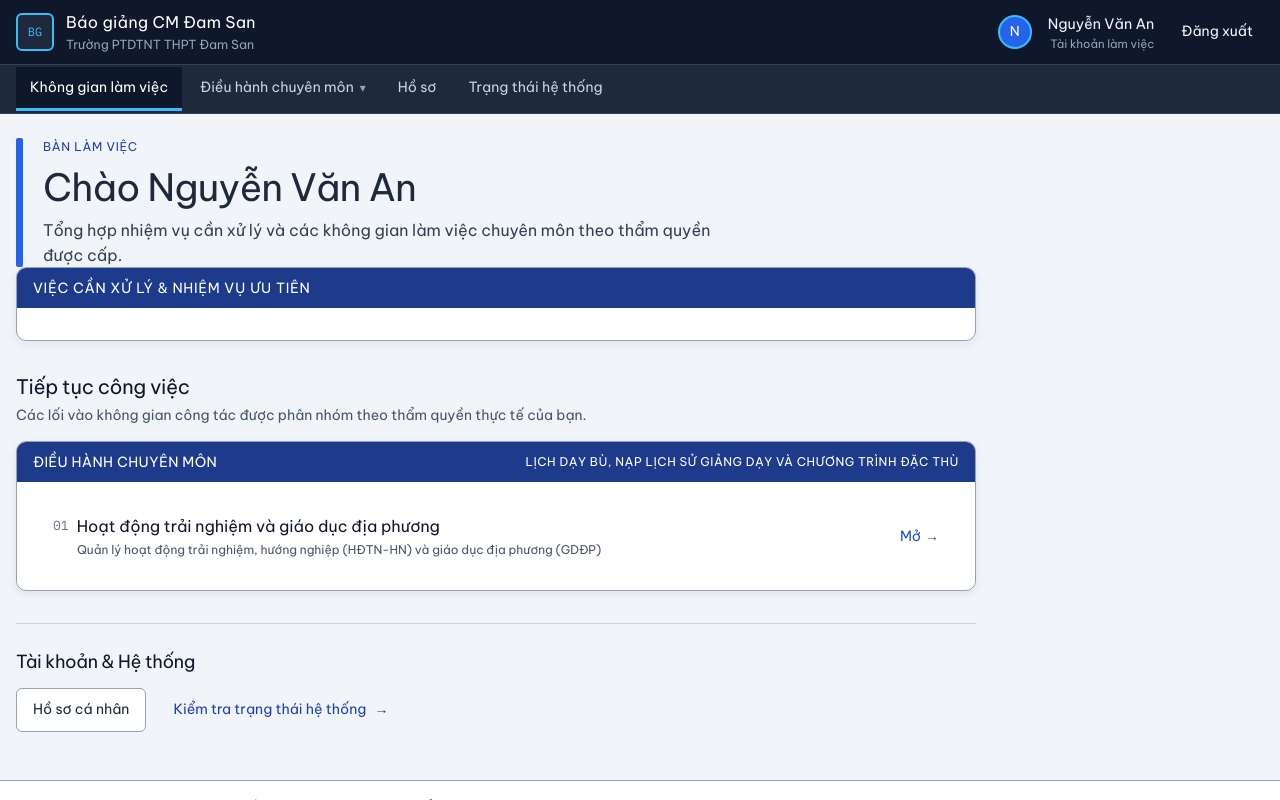
Test: P5-052: Task-Oriented Workspace & Information Architecture › Persona Fixtures (Real Grants — No Role Derivation) › 7. GDĐP / HĐTN Coordinator: sees Teaching Operations family and special programme workspace
expect the heading "Chào Nguyễn Văn An" is shown: met, box [43,163,416,211]
Step 1. Click the button "Điều hành chuyên môn ▾" → (283, 89), box [186,67,380,111]
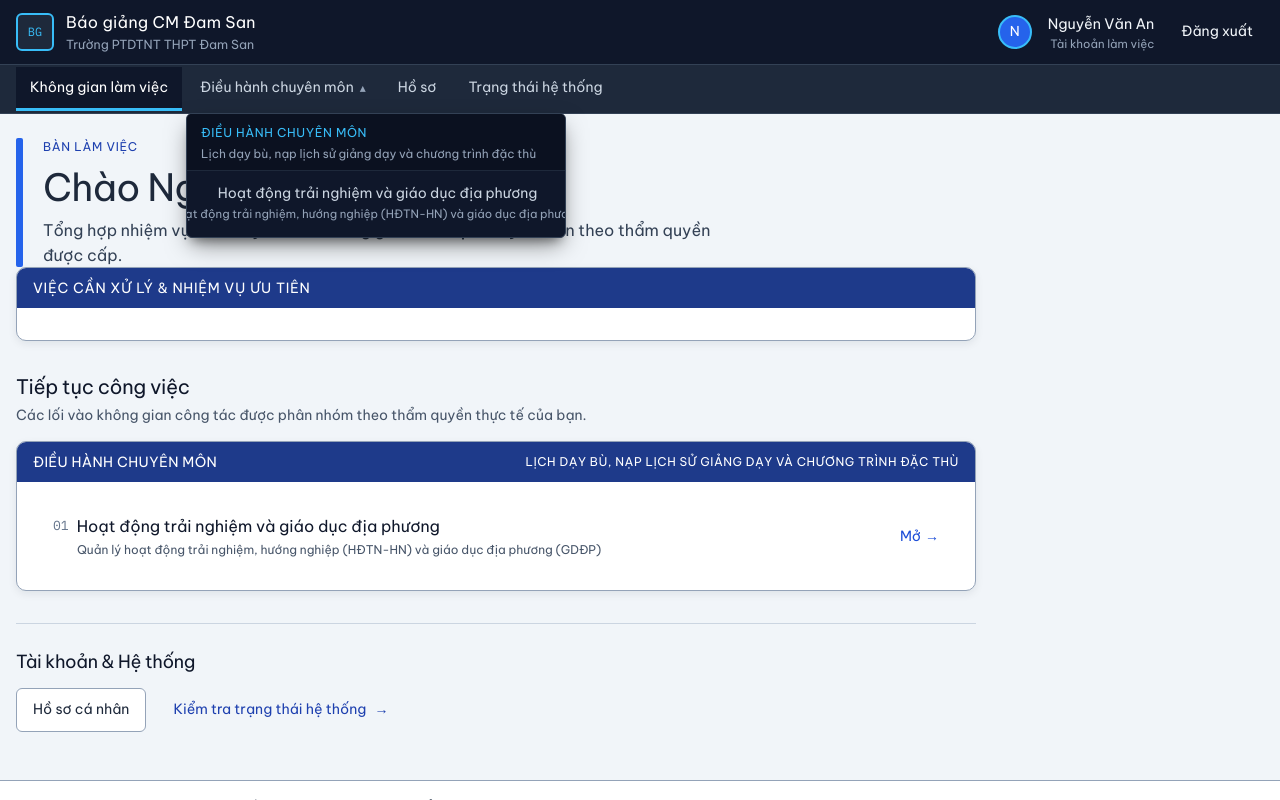
expect the link "Hoạt động trải nghiệm và giáo dục địa phương" is shown: met, box [187,175,565,233]
